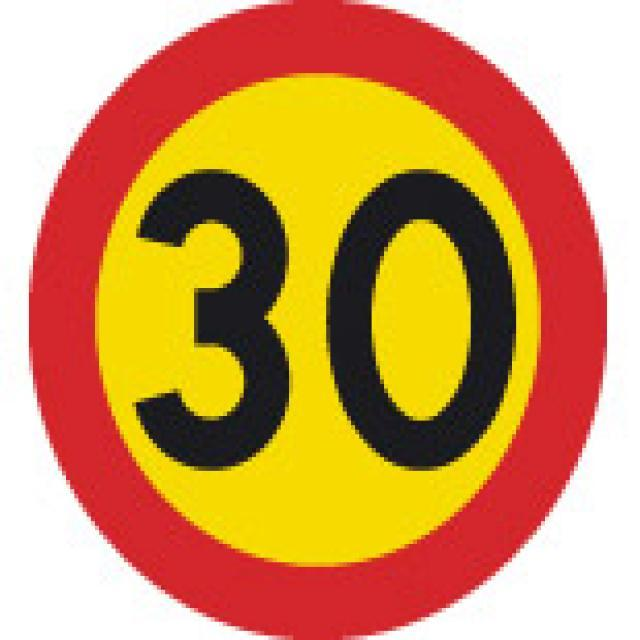speed limit-30: (24, 0, 612, 640)
